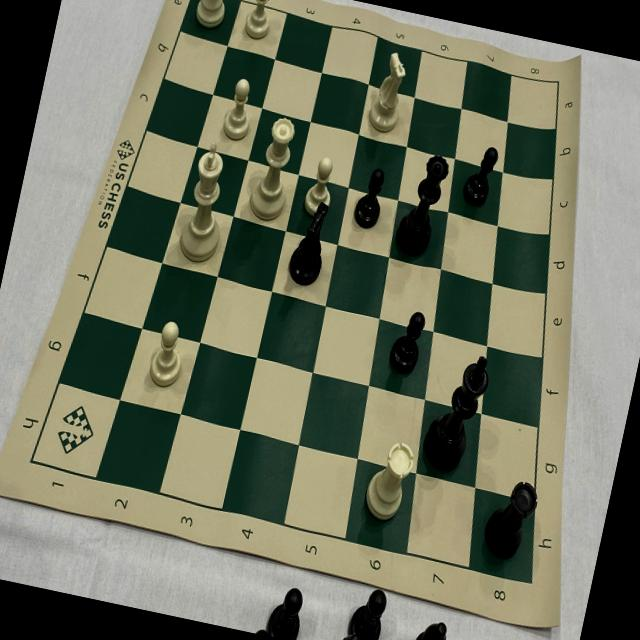black-king: (414, 343, 495, 484)
black-knight: (275, 195, 341, 292)
black-pawn: (454, 132, 503, 214), (382, 306, 428, 384), (347, 162, 392, 238)
black-queen: (387, 143, 452, 267)
black-rook: (473, 468, 542, 572)
white-king: (170, 134, 242, 271)
white-knight: (358, 42, 416, 140)
white-pawn: (294, 145, 344, 227), (142, 314, 192, 392), (214, 69, 262, 146), (235, 0, 281, 47)
white-queen: (244, 107, 303, 226)
white-rook: (357, 430, 421, 530), (187, 0, 237, 34)
